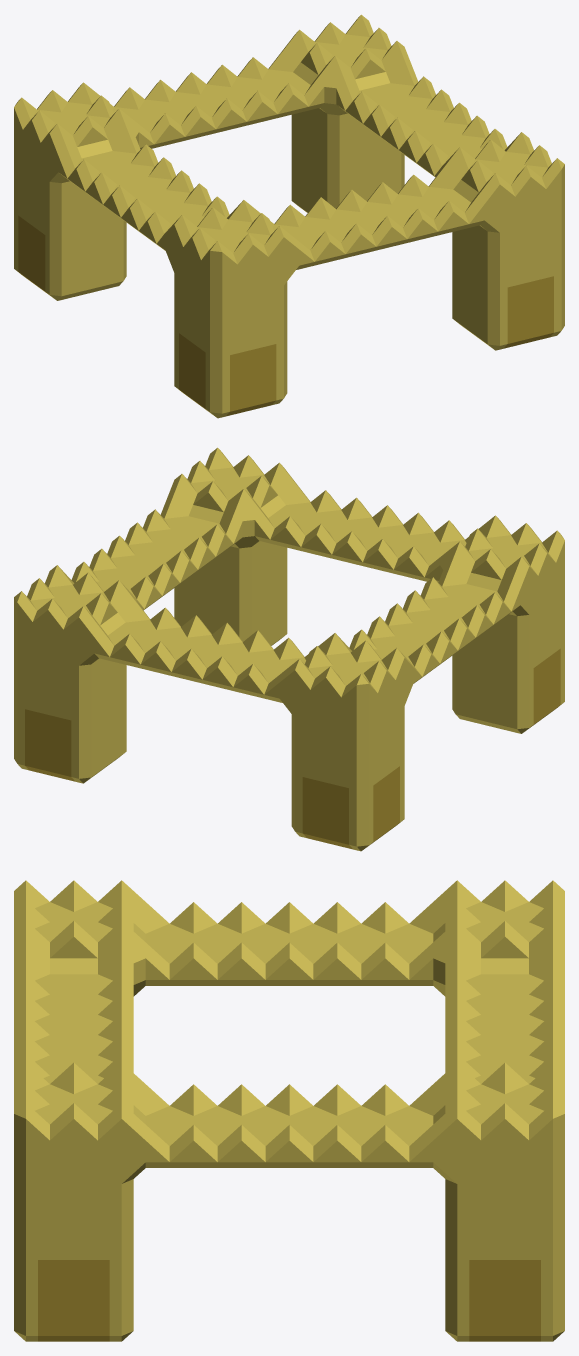
File: rc_sandcastle.fbx
3 views of the same model, one above another, from view 1: azimuth 30°, elevation 25°; view 2: azimuth 150°, elevation 25°; view 3: azimuth 270°, elevation 25° (orthographic). The views are drawn at different scales.
Visible parts, largest first — view 1: rc_sandcastle; view 2: rc_sandcastle; view 3: rc_sandcastle.
Boxes of the visible parts, bbox=[...] form: rc_sandcastle: bbox=[14, 14, 564, 418]; rc_sandcastle: bbox=[14, 447, 564, 851]; rc_sandcastle: bbox=[14, 880, 564, 1341].
Bounding box in the file's own units: 2300 × 1100 × 2300.
